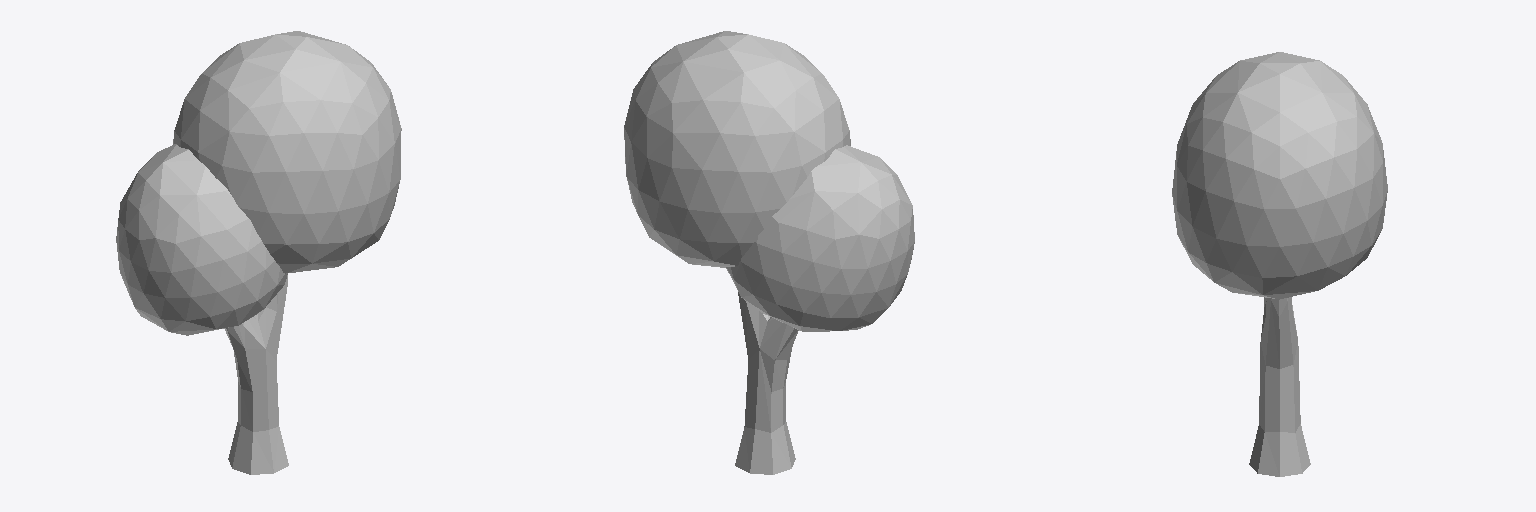
The model's file is detail_treeB.obj.
3 views of the same model, side by side, from view 1: azimuth 30°, elevation 25°; view 2: azimuth 150°, elevation 25°; view 3: azimuth 270°, elevation 25° (orthographic).
Parts seen in each view (by area): view 1: detail_treeB_Cube.442; view 2: detail_treeB_Cube.442; view 3: detail_treeB_Cube.442.
Boxes of the visible parts, box(x1,y1,x2,y2) form: detail_treeB_Cube.442: box(116, 31, 401, 474); detail_treeB_Cube.442: box(624, 31, 914, 474); detail_treeB_Cube.442: box(1172, 52, 1387, 476).
Bounding box in the file's own units: 0.4867 × 0.7268 × 0.3439.